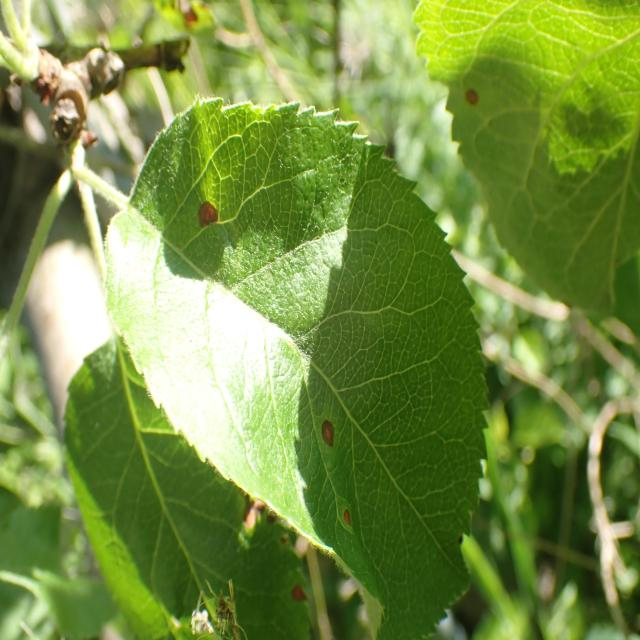frog-eye-leaf-spot: (103, 94, 491, 637), (411, 0, 640, 336)
